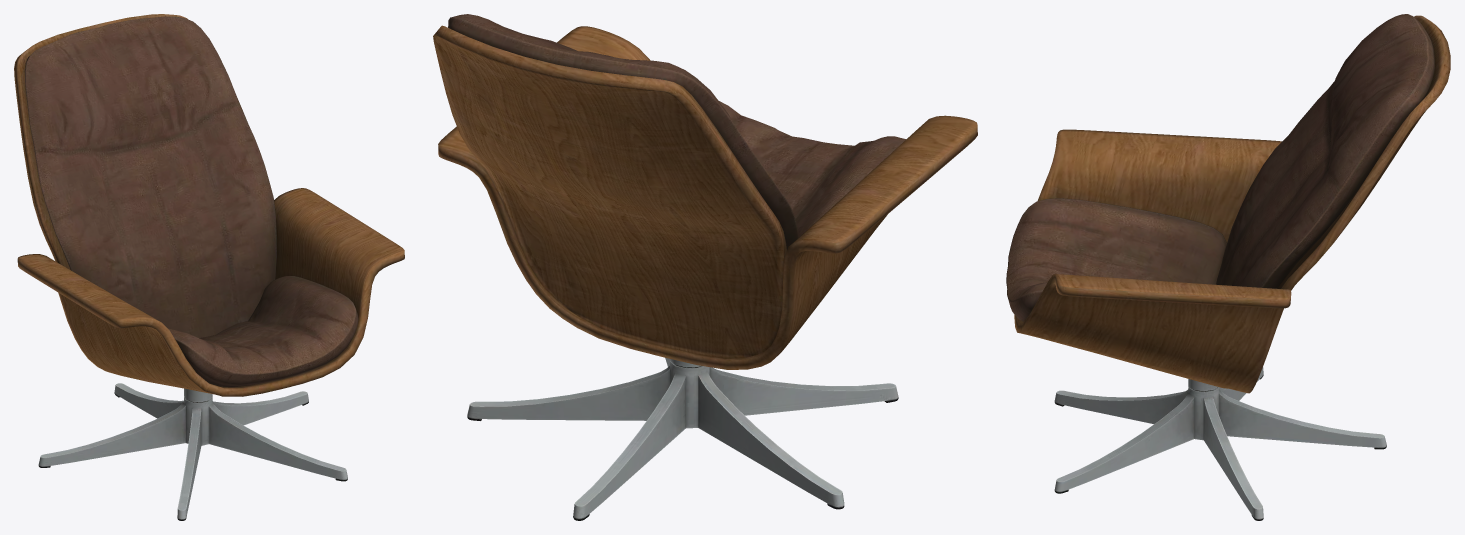
File: wohnen-loungesessel.glb
The picture shows the model from 3 angles, left to right: view 1: azimuth 30°, elevation 25°; view 2: azimuth 150°, elevation 25°; view 3: azimuth 270°, elevation 25°; orthographic projection. The views are drawn at different scales.
Parts seen in each view (by area): view 1: mid_century_lounge_chair; view 2: mid_century_lounge_chair; view 3: mid_century_lounge_chair.
Part boxes in pixels (box(x1,y1,x2,y2)): mid_century_lounge_chair: box(14, 14, 404, 520); mid_century_lounge_chair: box(433, 14, 977, 520); mid_century_lounge_chair: box(1006, 14, 1450, 520).
Size of the model in its own units: 1.01 by 1.17 by 1.19.
1 material, 1 textured.
